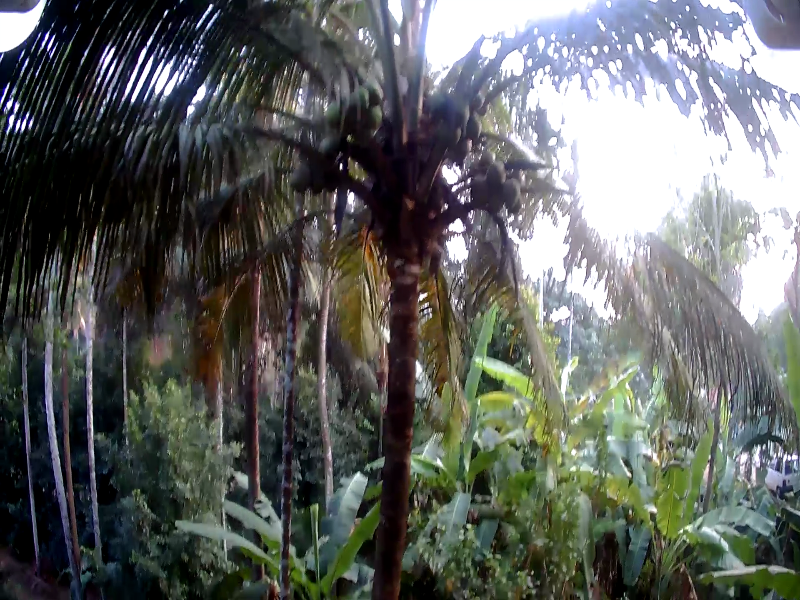coconut: (284, 153, 308, 187), (320, 98, 348, 127), (345, 84, 368, 110), (445, 96, 464, 126), (461, 107, 477, 138), (470, 177, 493, 198), (421, 94, 446, 113), (364, 77, 381, 103), (312, 136, 335, 155), (440, 124, 459, 146), (502, 177, 517, 202), (362, 107, 377, 127), (488, 164, 501, 180), (453, 137, 461, 150)
